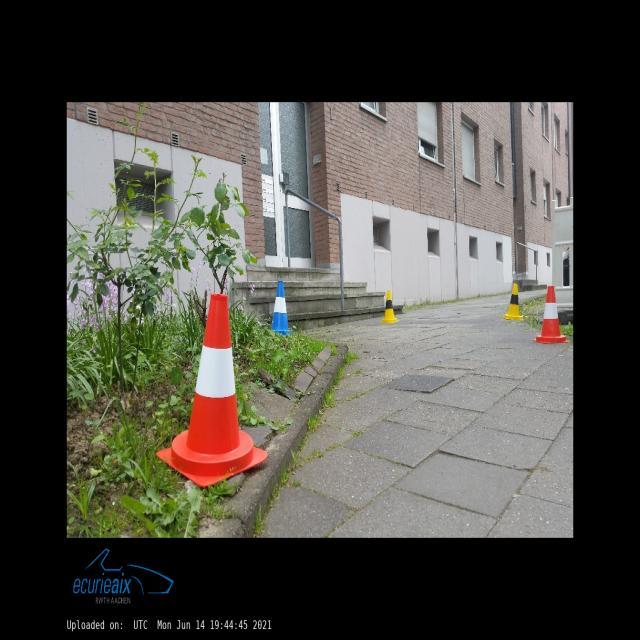blue_cone: (271, 281, 294, 336)
orange_cone: (157, 295, 267, 486), (533, 286, 569, 343)
yellow_cone: (503, 284, 522, 320), (380, 290, 397, 322)
